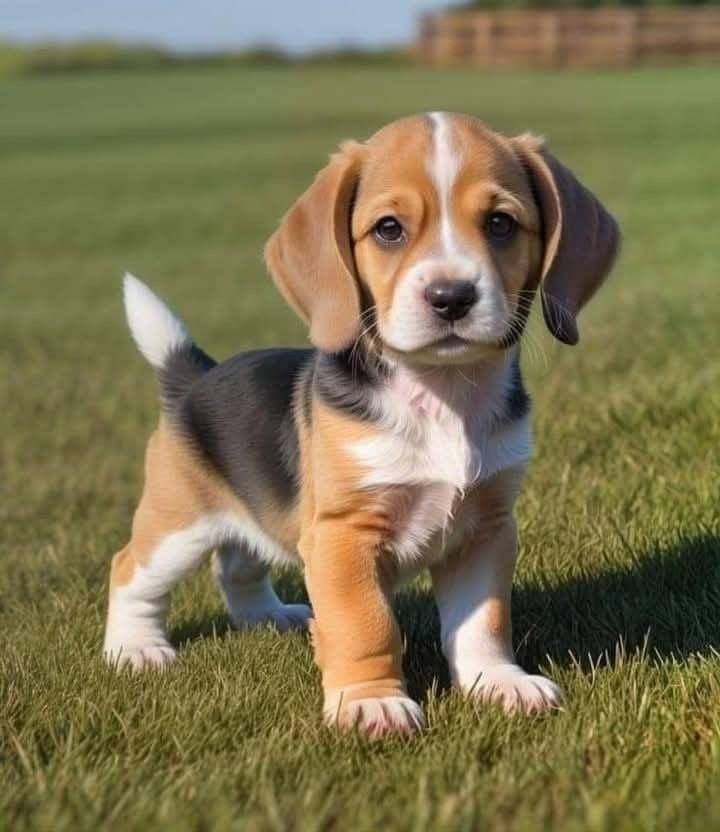puppy-dog: (97, 108, 626, 743)
